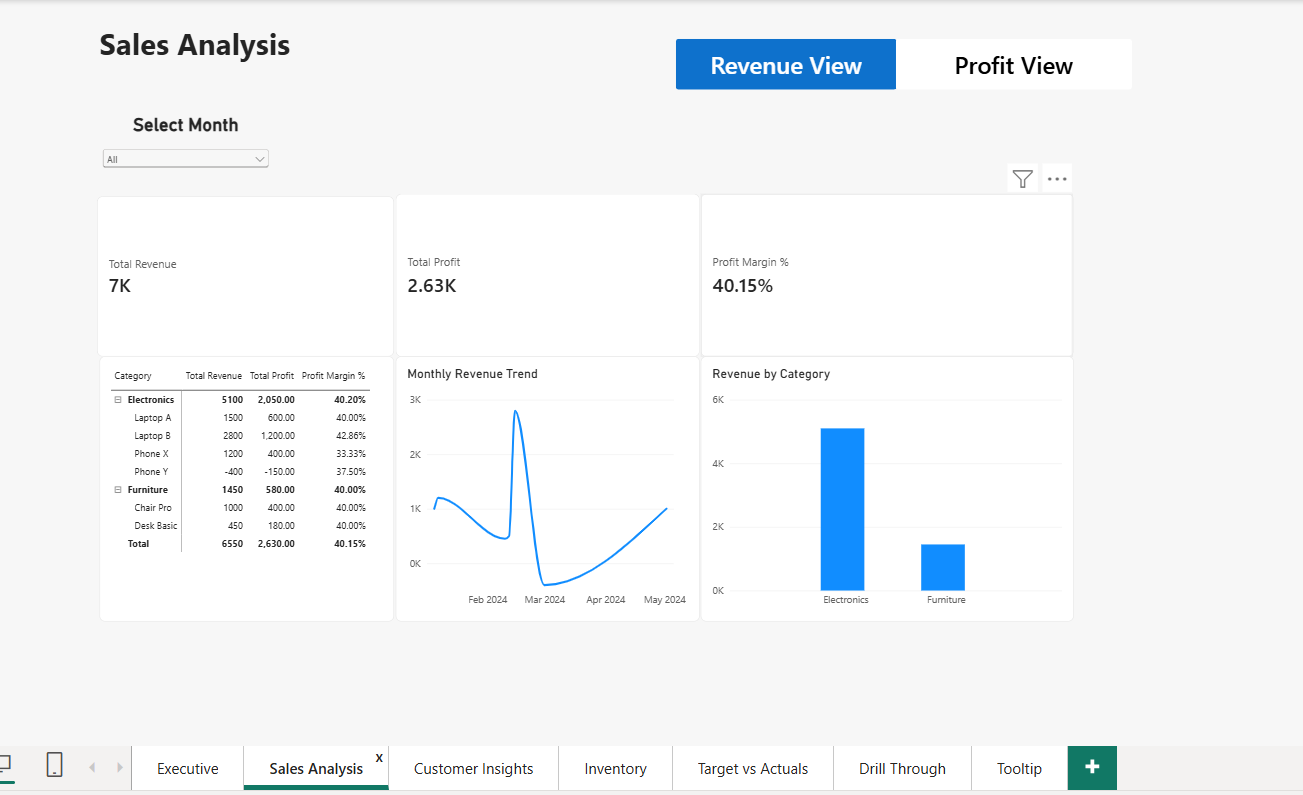

What the dashboard file says about the page in this screenshot:
{"tool":"powerbi","page":{"name":"Sales Analysis","canvas":[1920,1080],"ordinal":1},"visuals":[{"type":"pivotTable","fields":{"Rows":["Products.Category","Products.ProductName"],"Values":["Customers.Total Revenue","Customers.Total Profit","Customers.Profit Margin %"]},"box":[148,516,426.2,383.8],"z":0},{"type":"lineChart","title":"Monthly Revenue Trend","fields":{"Category":["Calendar.Date"],"Y":["Customers.Total Revenue"]},"box":[578,516,440,384],"z":1000},{"type":"clusteredColumnChart","title":"Revenue by Category","fields":{"Category":["Products.Category"],"Y":["Customers.Total Revenue"]},"box":[1018,516,540,384],"z":2000},{"type":"slicer","title":"Select Month","fields":{"Values":["Calendar.Date"]},"box":[148,164,250,116],"z":3000},{"type":"cardVisual","fields":{"Data":["Customers.Total Revenue"]},"box":[144,284,430,232],"z":4000},{"type":"cardVisual","fields":{"Data":["Customers.Total Profit"]},"box":[578,280,440,236],"z":5000},{"type":"cardVisual","fields":{"Data":["Customers.Profit Margin %"]},"box":[1018,280,540,236],"z":6000},{"type":"textbox","box":[148,32,388,98],"z":7000},{"type":"actionButton","box":[982,56,320,74],"z":8000},{"type":"actionButton","box":[1302,56,342,74],"z":9000}]}

Visuals, with their boxes on the page's 1920x1080 design canvas (x1, y1, x2, y2). These are canvas units, not pixel positions in the 1303x795 screenshot, which may show the page scaled, cropped or inside an application window:
pivotTable - Products.Category x Products.ProductName: 148, 516, 574, 900
"Monthly Revenue Trend" lineChart: 578, 516, 1018, 900
"Revenue by Category" clusteredColumnChart: 1018, 516, 1558, 900
"Select Month" slicer: 148, 164, 398, 280
cardVisual - Customers.Total Revenue: 144, 284, 574, 516
cardVisual - Customers.Total Profit: 578, 280, 1018, 516
cardVisual - Customers.Profit Margin %: 1018, 280, 1558, 516
textbox: 148, 32, 536, 130
actionButton: 982, 56, 1302, 130
actionButton: 1302, 56, 1644, 130
